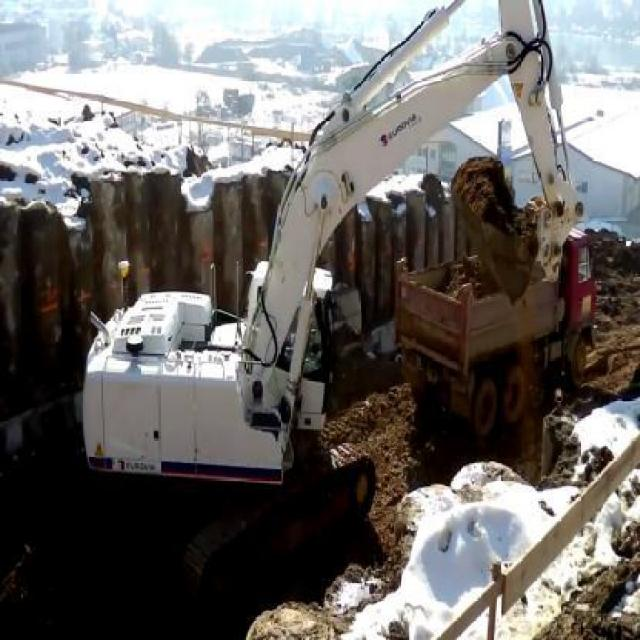Dump Truck: (392, 243, 598, 432)
Excavator: (81, 2, 584, 586)
